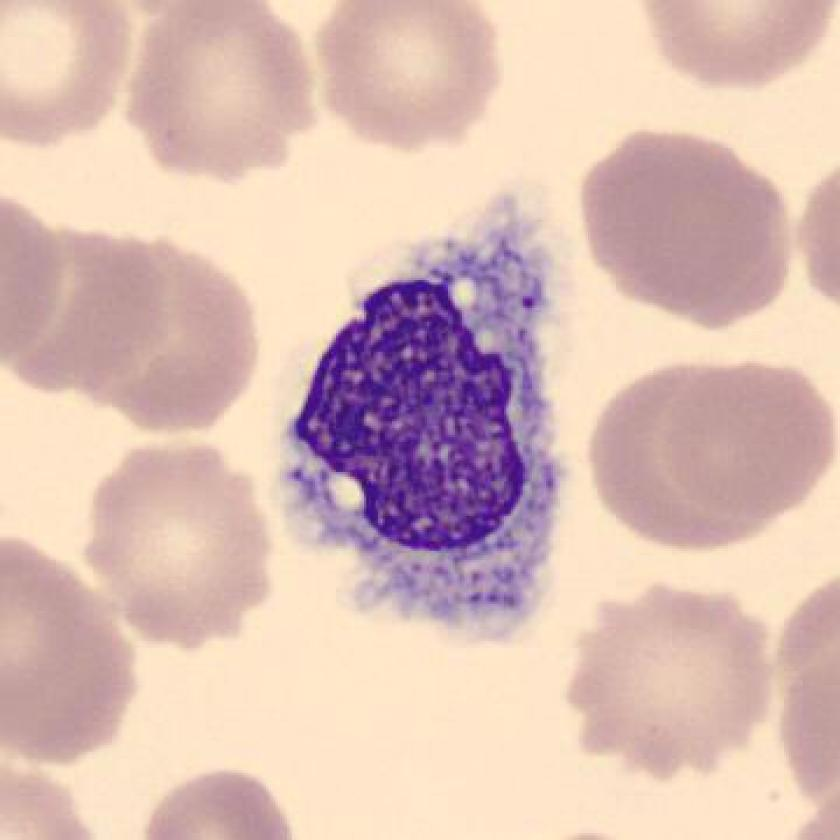monocyte: (258, 177, 596, 670)
